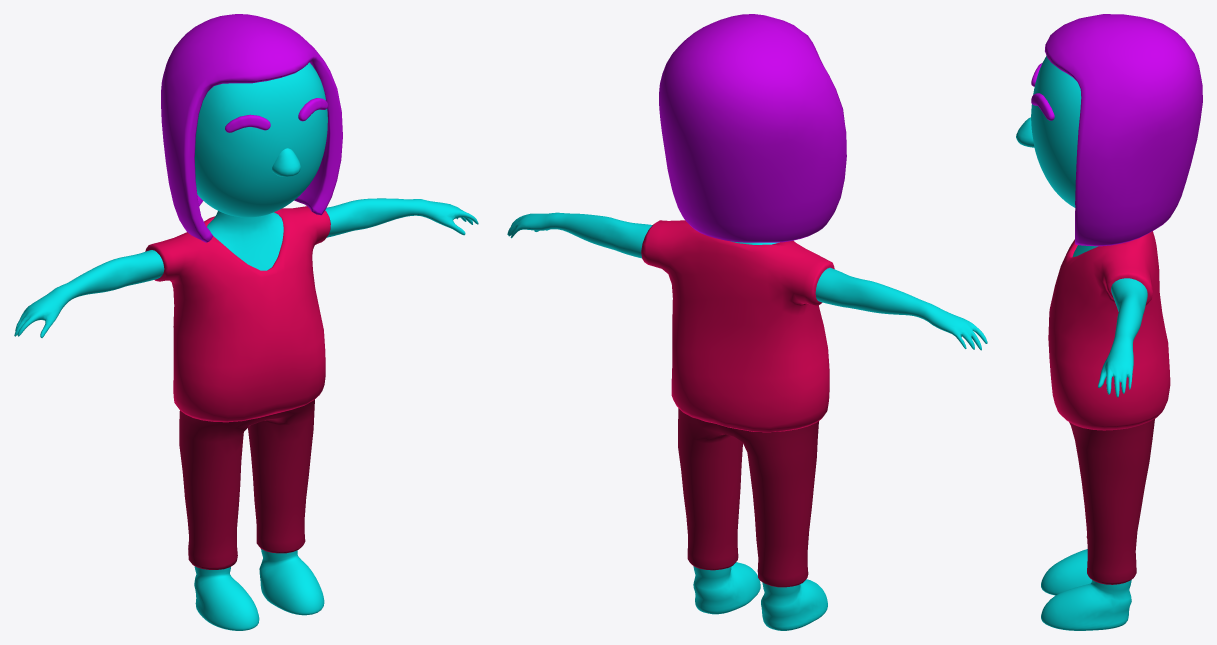
Rendered from uploads_files_2551386_dişi_talha.fbx.
3 renders of one model, left to right at view 1: azimuth 30°, elevation 25°; view 2: azimuth 150°, elevation 25°; view 3: azimuth 270°, elevation 25°, orthographic. The views are drawn at different scales.
Parts seen in each view (by area): view 1: vucut, tshırt, sac, pantolon; view 2: sac, tshırt, pantolon, vucut; view 3: sac, tshırt, vucut, pantolon.
Part boxes in pixels (bbox=[...]): vucut: bbox=[14, 62, 478, 630]; tshırt: bbox=[145, 206, 330, 422]; sac: bbox=[161, 14, 342, 242]; pantolon: bbox=[179, 399, 314, 569]; sac: bbox=[659, 14, 846, 242]; tshırt: bbox=[641, 220, 834, 432]; pantolon: bbox=[678, 408, 818, 587]; vucut: bbox=[507, 212, 987, 630]; sac: bbox=[1031, 14, 1202, 246]; tshırt: bbox=[1048, 231, 1170, 430]; vucut: bbox=[1016, 56, 1147, 630]; pantolon: bbox=[1069, 419, 1154, 584].
Size of the model in its own units: 7.11 by 8.47 by 2.45.
